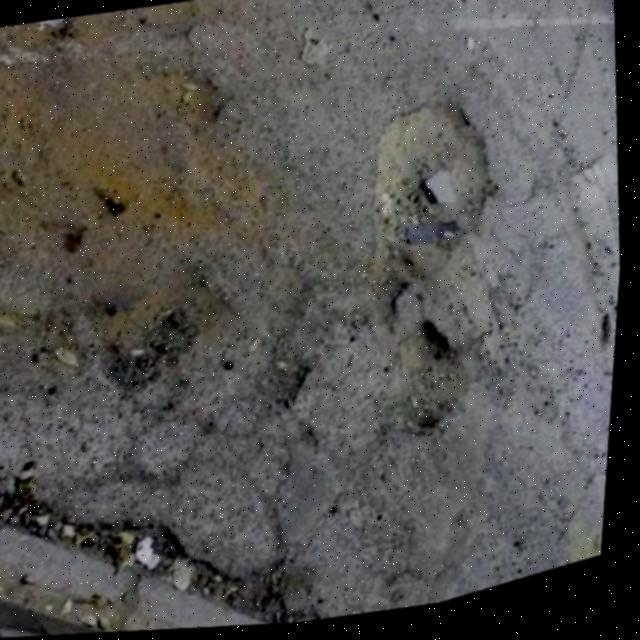Pothole: (0, 364, 351, 640), (317, 61, 535, 311), (361, 297, 494, 480), (76, 245, 225, 392), (134, 11, 247, 161)
